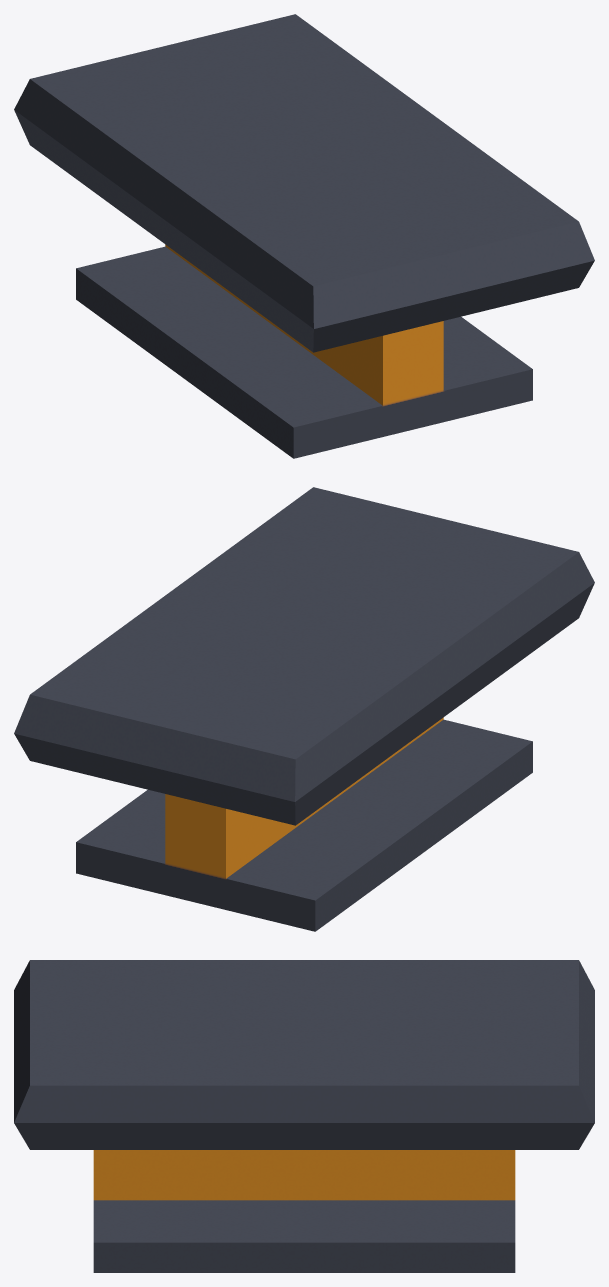
The model's file is TABLE.FBX.
3 views of the same model, one above another, from view 1: azimuth 30°, elevation 25°; view 2: azimuth 150°, elevation 25°; view 3: azimuth 270°, elevation 25° (orthographic). The views are drawn at different scales.
Parts seen in each view (by area): view 1: Box012; view 2: Box012; view 3: Box012.
Boxes of the visible parts, box(x1,y1,x2,y2) form: Box012: box(14, 14, 594, 458); Box012: box(14, 487, 594, 931); Box012: box(14, 960, 594, 1272).
Size of the model in its own units: 127 by 86.46 by 235.
Materials: 1 (1 with a texture image).
